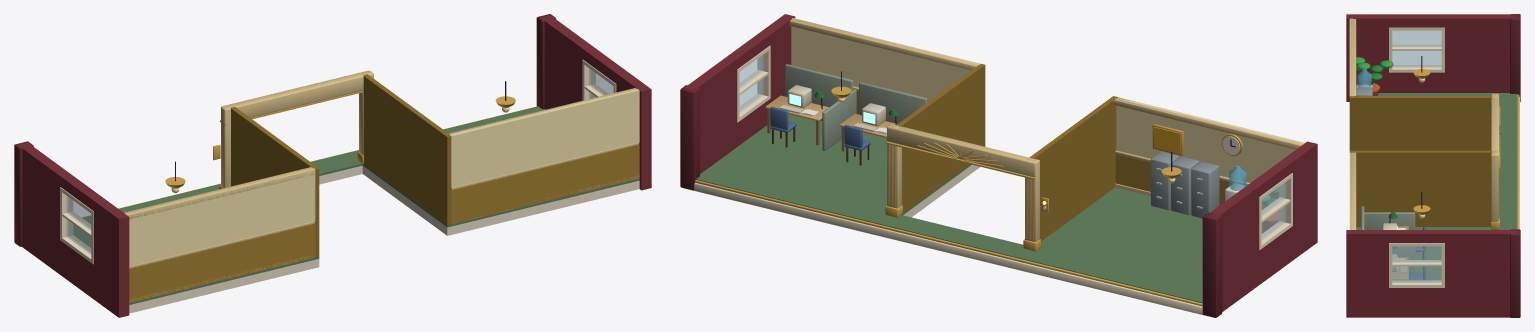
The model's file is Floor_Office.fbx.
3 views of the same model, side by side, from view 1: azimuth 30°, elevation 25°; view 2: azimuth 150°, elevation 25°; view 3: azimuth 270°, elevation 25° (orthographic). The views are drawn at different scales.
Parts seen in each view (by area): view 1: Shell; view 2: Shell; view 3: Shell.
Part boxes in pixels (x1,y1,x2,y2): Shell: (14, 14, 651, 317); Shell: (680, 14, 1317, 317); Shell: (1346, 14, 1520, 317).
Size of the model in its own units: 15.92 by 2.82 by 5.3.
